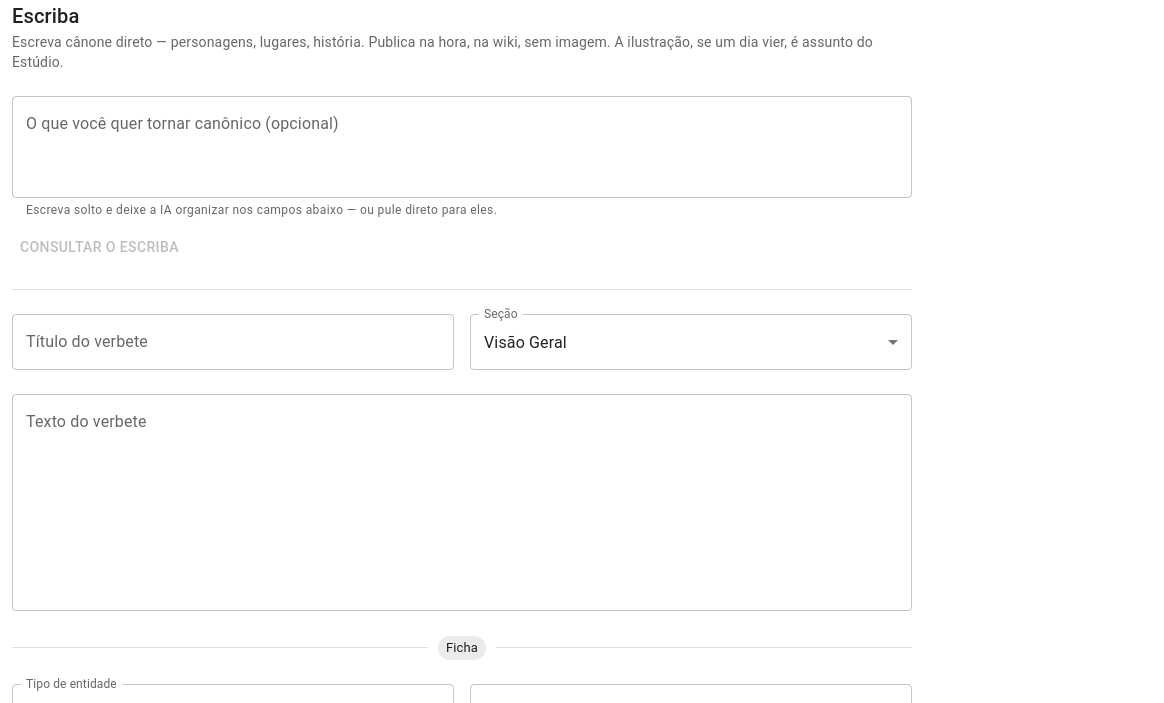
EscribaTab › a prévia da IA preenche os campos
Type "Uma batedora chamada Sera." into the text box labelled "O que você quer tornar canônico (opcional)" at point(462, 147), box left=26, top=112, right=898, bottom=182
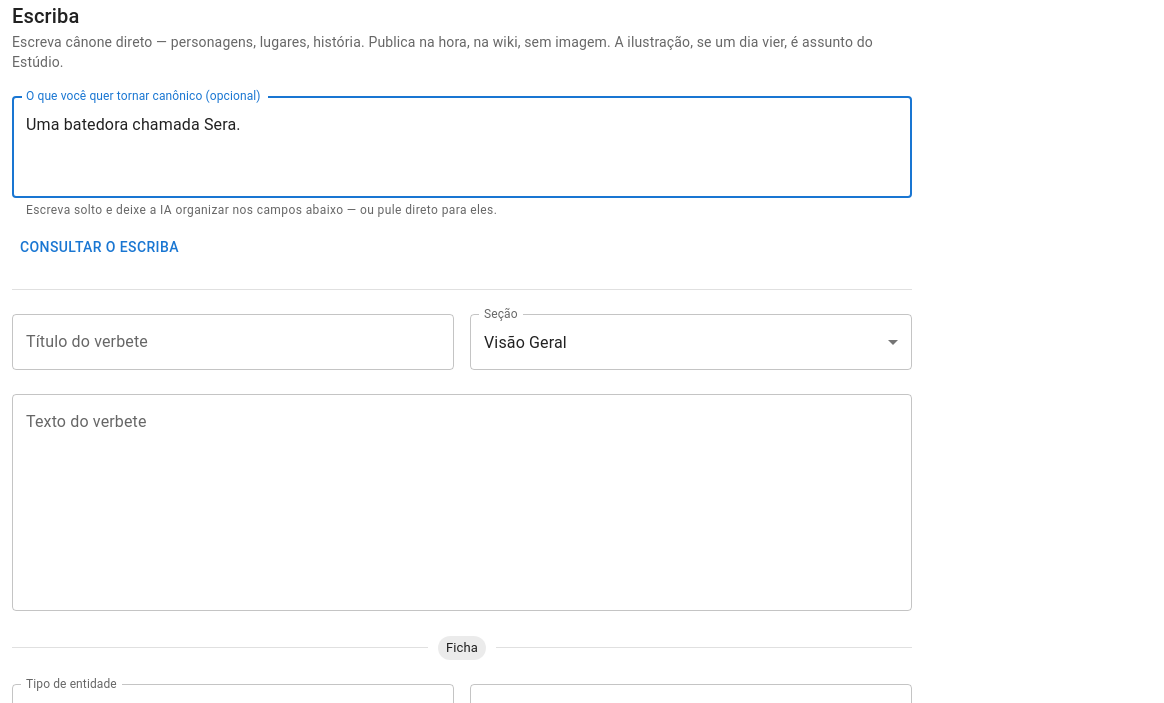
Click the button "Consultar o Escriba" at point(99, 247), box left=12, top=229, right=187, bottom=265
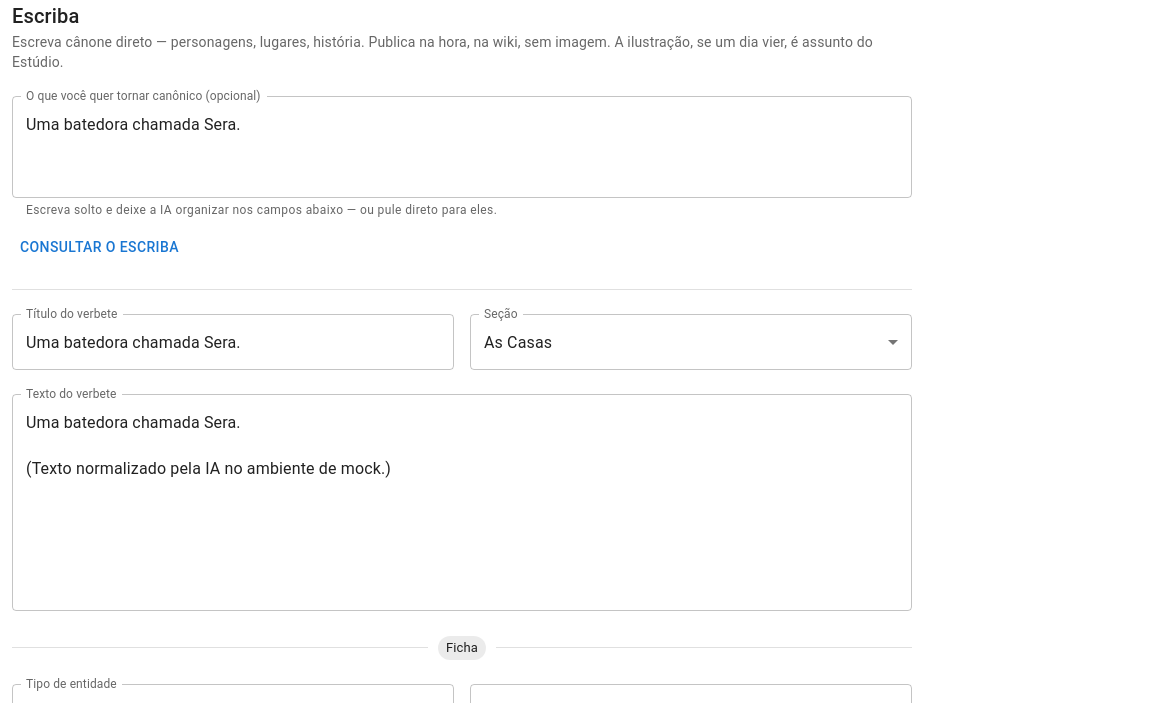
Now the field labelled "Título do verbete" holds "Uma batedora chamada Sera.", box left=12, top=314, right=454, bottom=370
